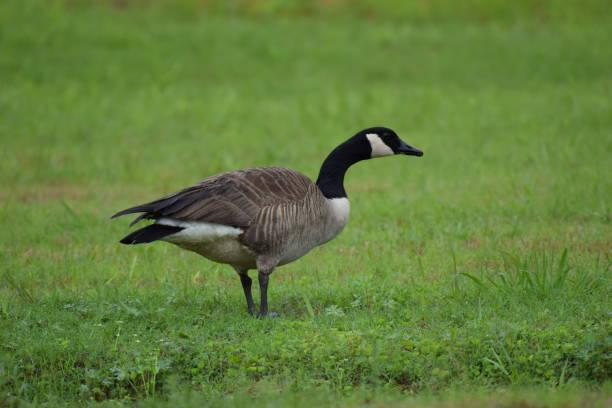Canadian-Goose: (110, 124, 424, 321)
